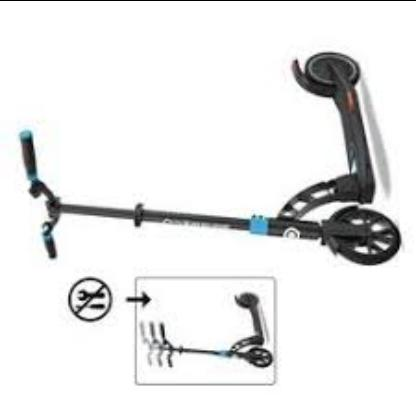bike: (141, 293, 273, 369)
